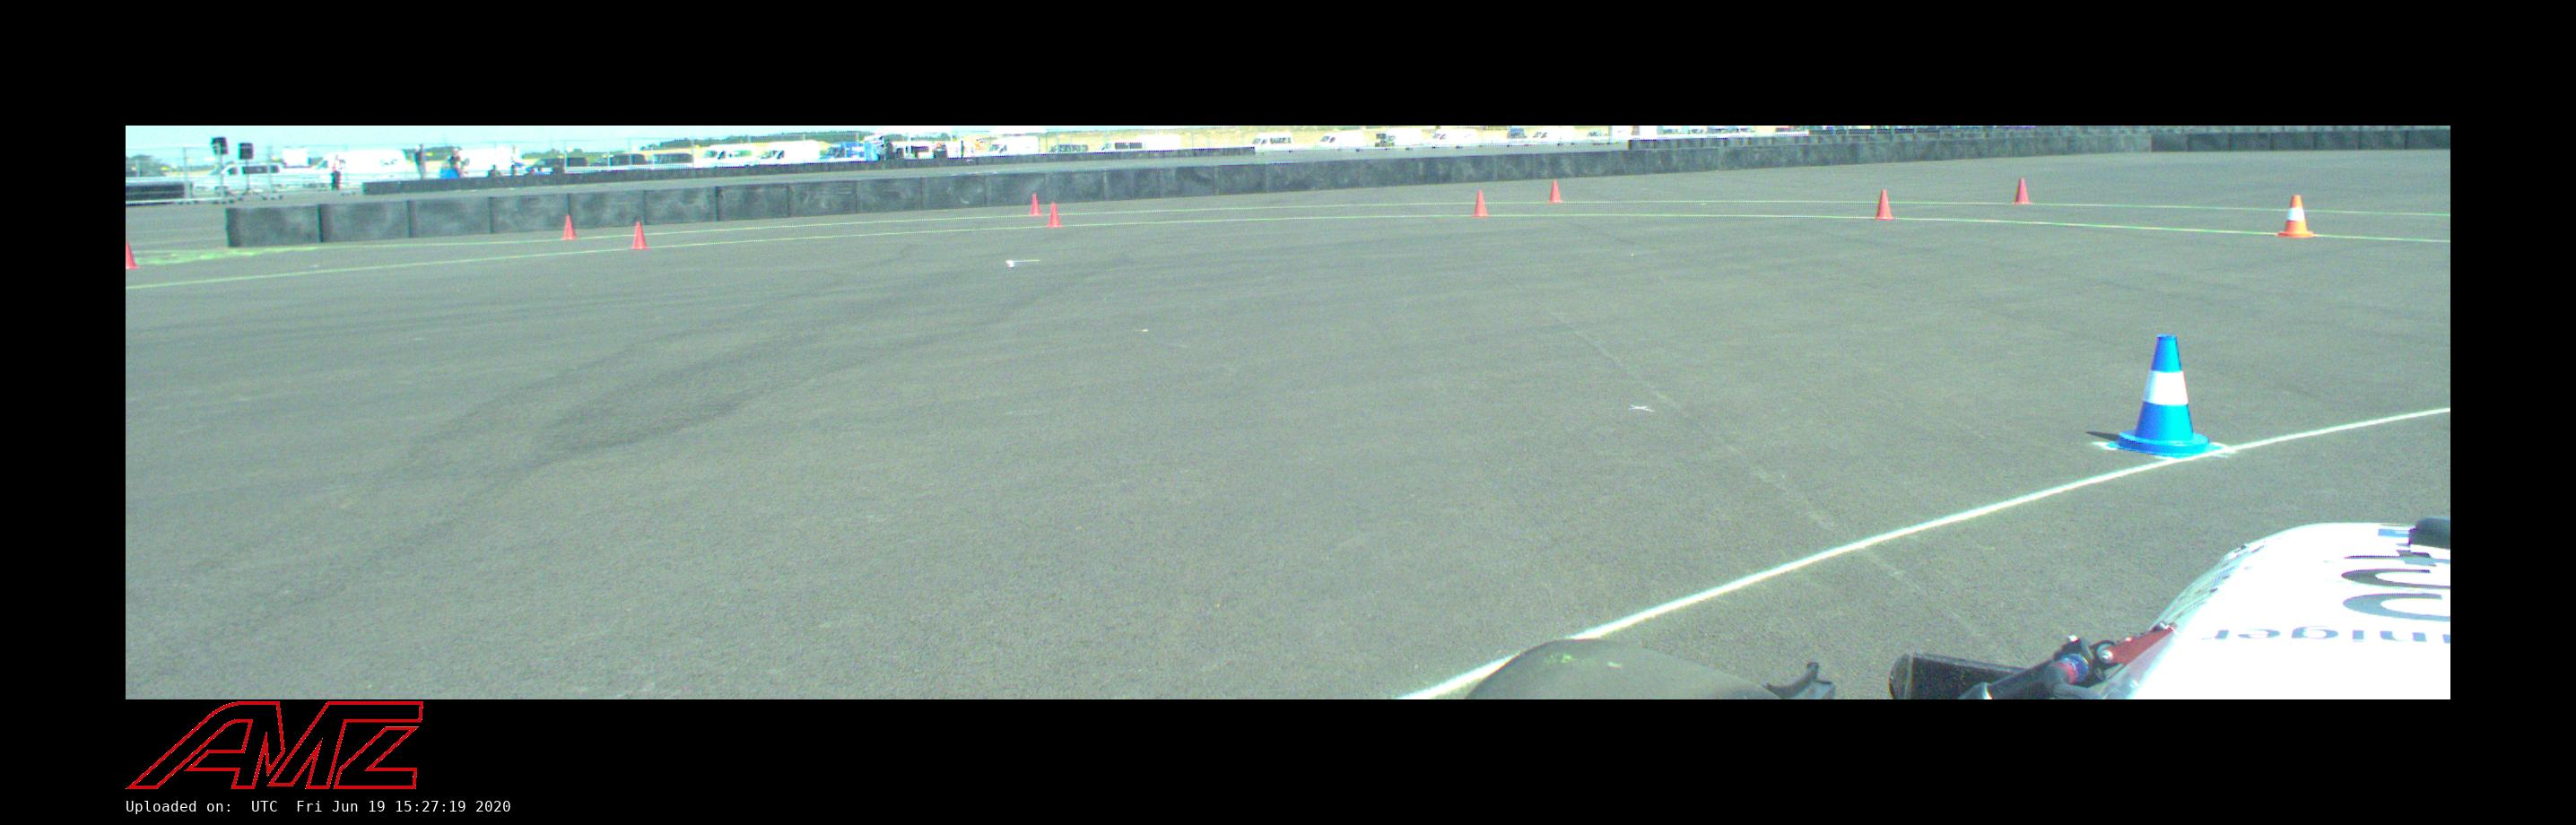blue_cone: (2106, 335, 2224, 459)
orange_cone: (2277, 196, 2318, 238)
